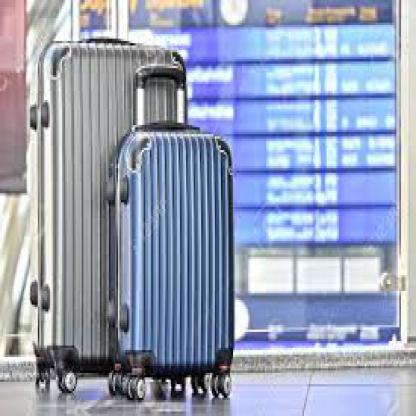maleta: (22, 23, 197, 400), (97, 112, 239, 410)
